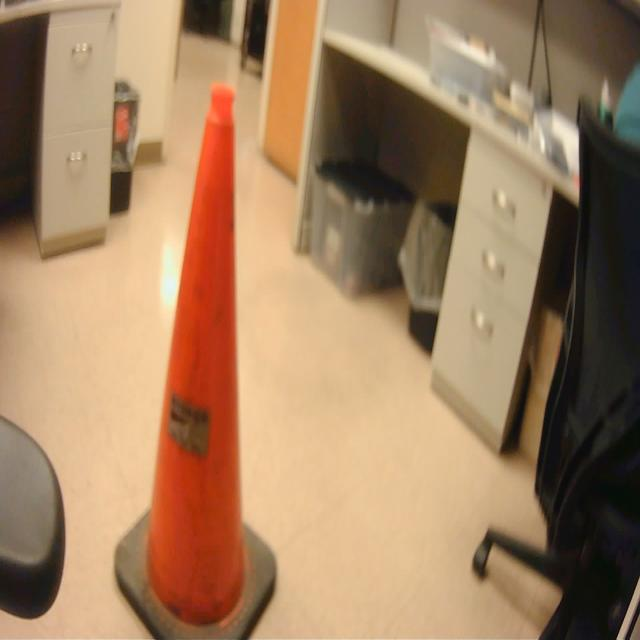traffic cone: (110, 71, 287, 640)
